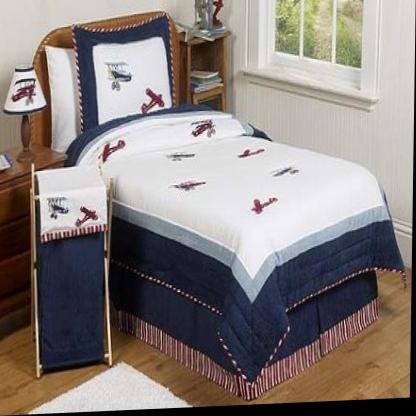Bed: (34, 14, 406, 391)
